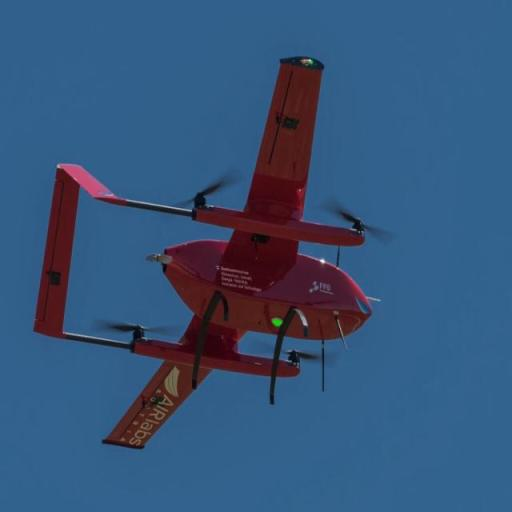uav: (24, 42, 386, 460)
